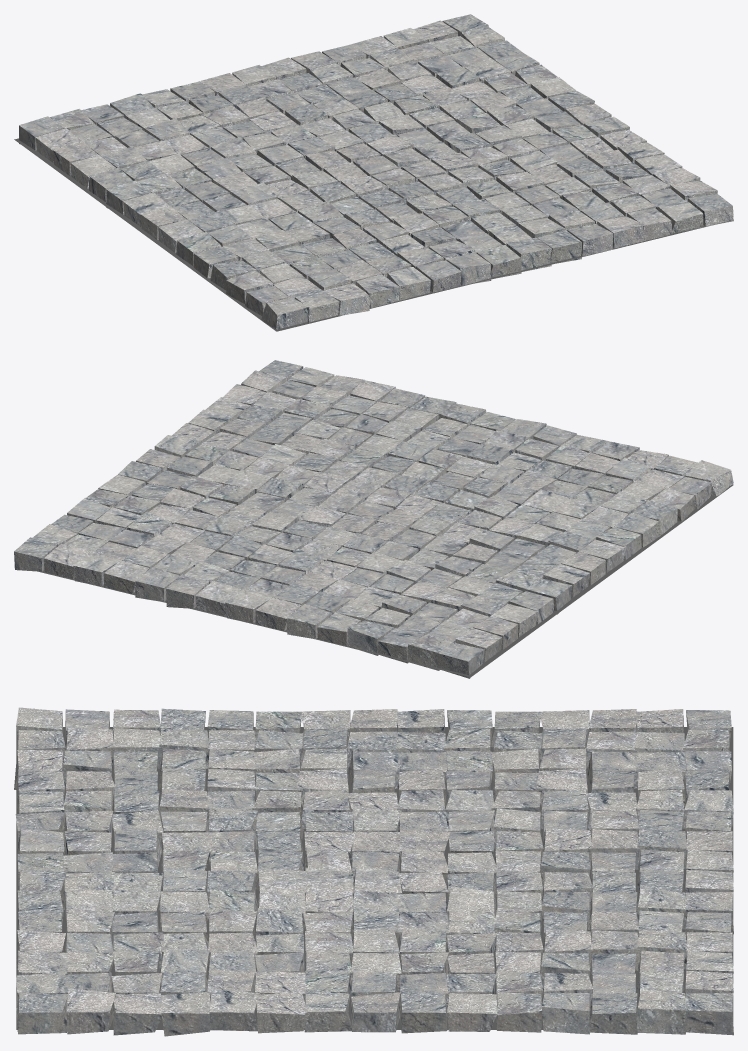
The model's file is Stone_Tile_3x3.fbx.
The picture shows the model from 3 angles, top to bottom: view 1: azimuth 30°, elevation 25°; view 2: azimuth 150°, elevation 25°; view 3: azimuth 270°, elevation 25°; orthographic projection. The views are drawn at different scales.
Parts seen in each view (by area): view 1: Stone_Tile_3x3; view 2: Stone_Tile_3x3; view 3: Stone_Tile_3x3.
Boxes of the visible parts, left/top/right/bottom form: Stone_Tile_3x3: left=14, top=14, right=733, bottom=331; Stone_Tile_3x3: left=14, top=360, right=733, bottom=678; Stone_Tile_3x3: left=14, top=707, right=733, bottom=1036.
Size of the model in its own units: 3.04 by 0.1379 by 3.01.
2 materials, 1 textured.
